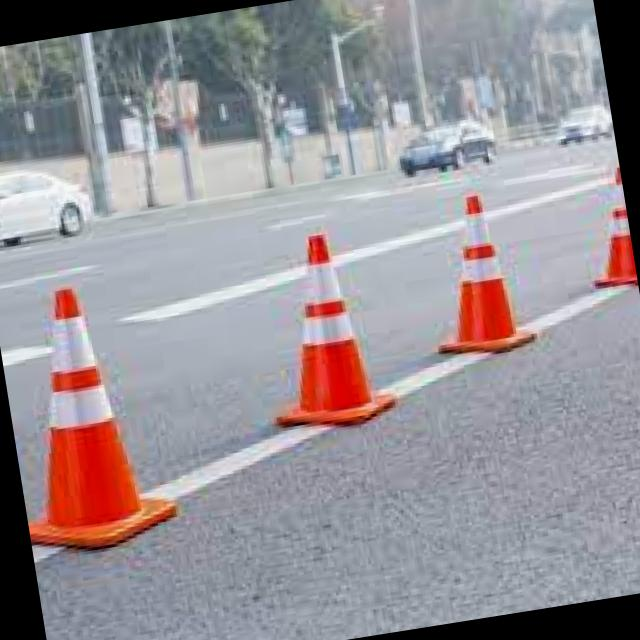cone: (0, 269, 200, 566), (246, 224, 414, 451), (402, 182, 557, 376), (573, 156, 640, 306)
